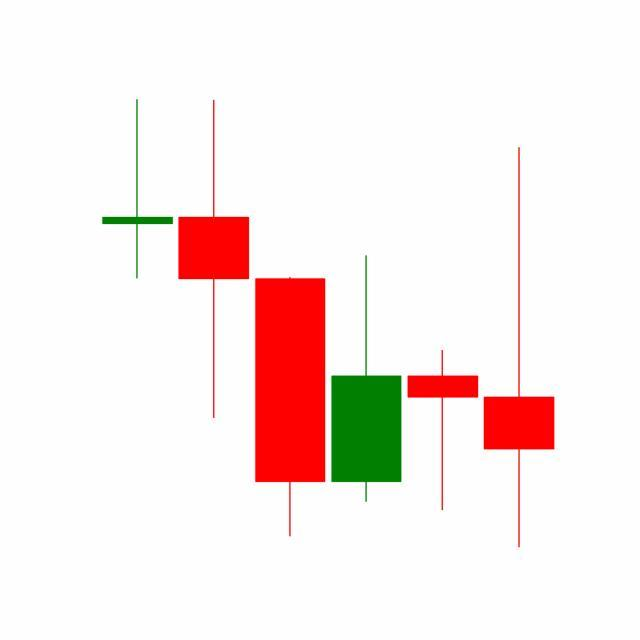Dragonfly Doji: (404, 349, 482, 513)
